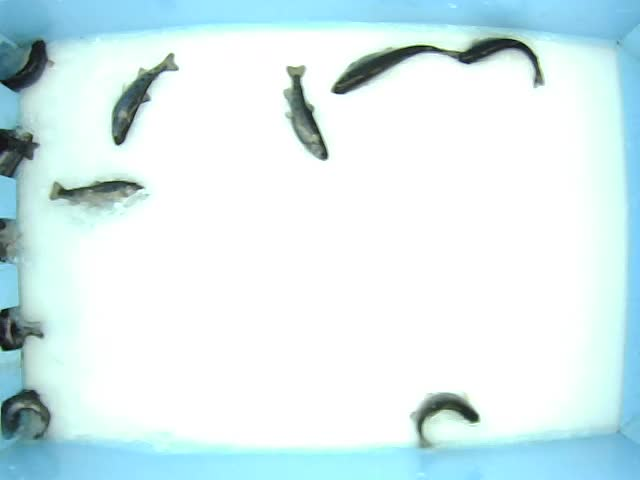fish: (329, 42, 462, 97), (109, 50, 181, 146), (281, 63, 331, 161), (456, 35, 545, 90), (408, 391, 481, 450), (48, 178, 146, 210), (1, 388, 52, 441)
